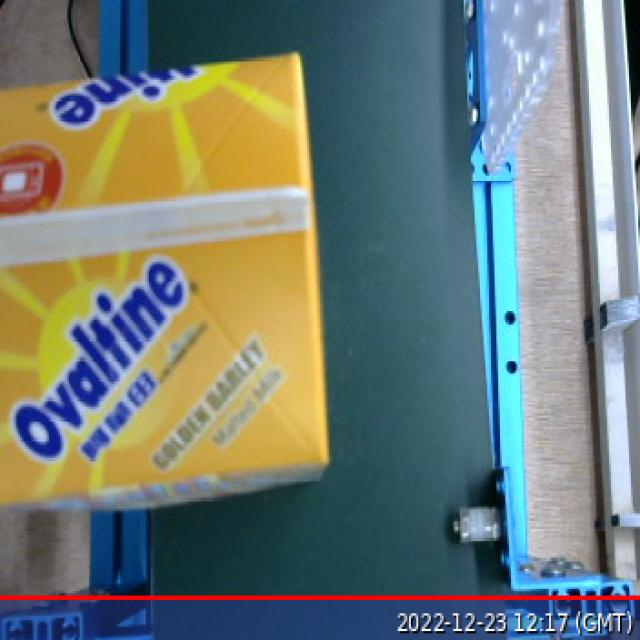non_white_jug: (0, 39, 343, 523)
